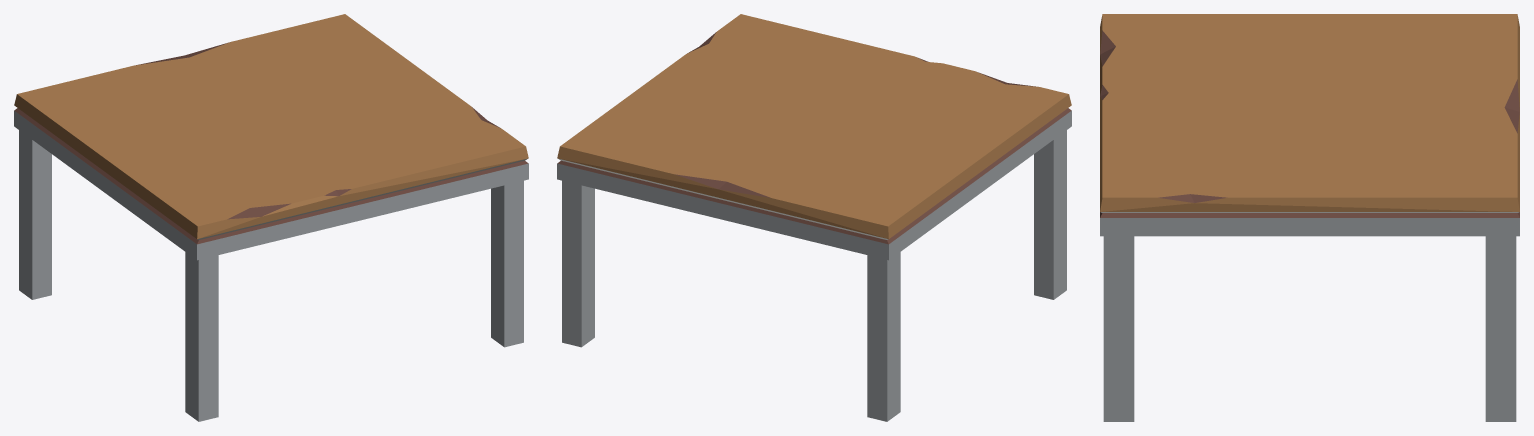
The model's file is Table_Square.FBX.
3 views of the same model, side by side, from view 1: azimuth 30°, elevation 25°; view 2: azimuth 150°, elevation 25°; view 3: azimuth 270°, elevation 25° (orthographic). The views are drawn at different scales.
Parts seen in each view (by area): view 1: Object001; view 2: Object001; view 3: Object001.
Part boxes in pixels (x1,y1,x2,y2): Object001: [14, 14, 528, 421]; Object001: [557, 14, 1071, 421]; Object001: [1100, 14, 1519, 421].
Size of the model in its own units: 133 by 75 by 127.
